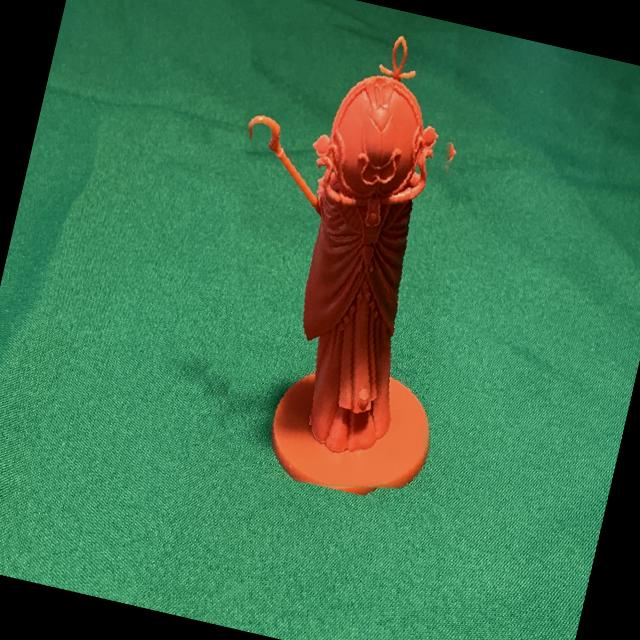amon: (170, 0, 510, 512)
